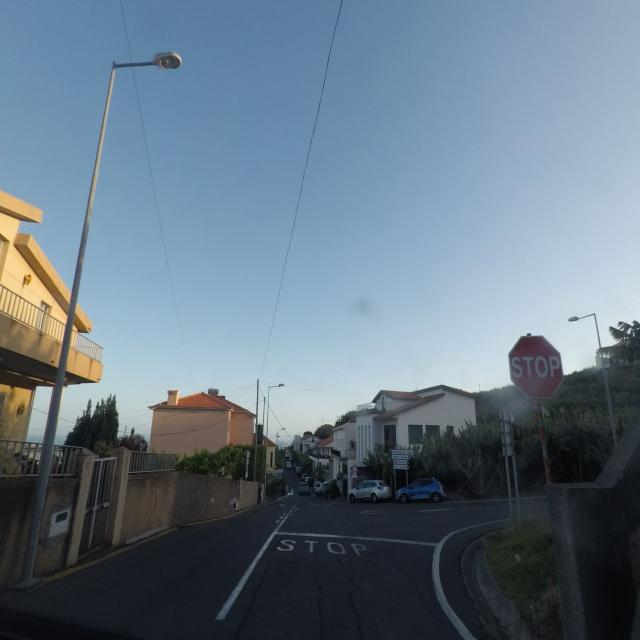car: (395, 476, 446, 504), (348, 478, 392, 504), (299, 479, 309, 496), (322, 480, 331, 496), (314, 480, 323, 494)
